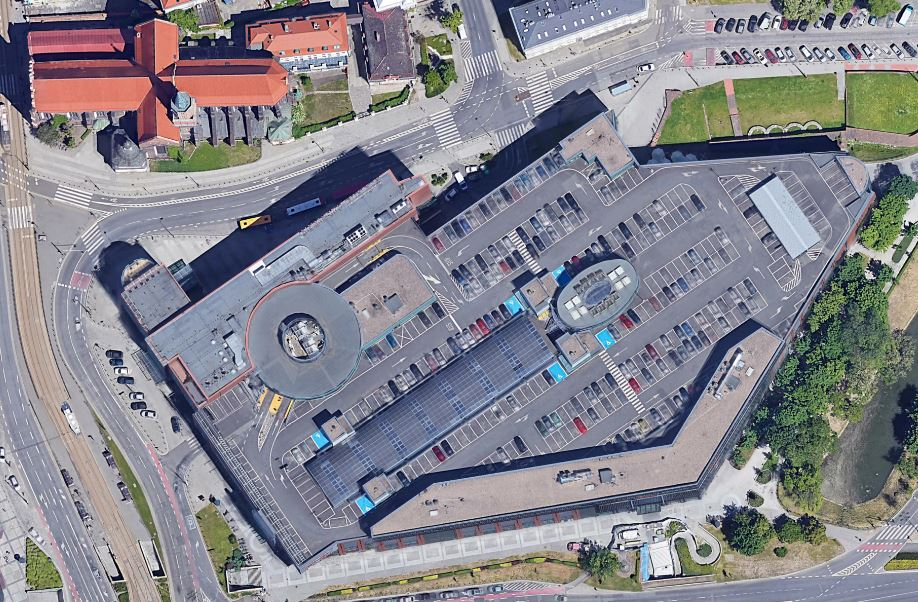block of flats: (503, 1, 658, 63), (237, 6, 353, 71), (353, 1, 419, 83)
church: (17, 15, 302, 174)
shopping_center: (112, 109, 882, 577)
